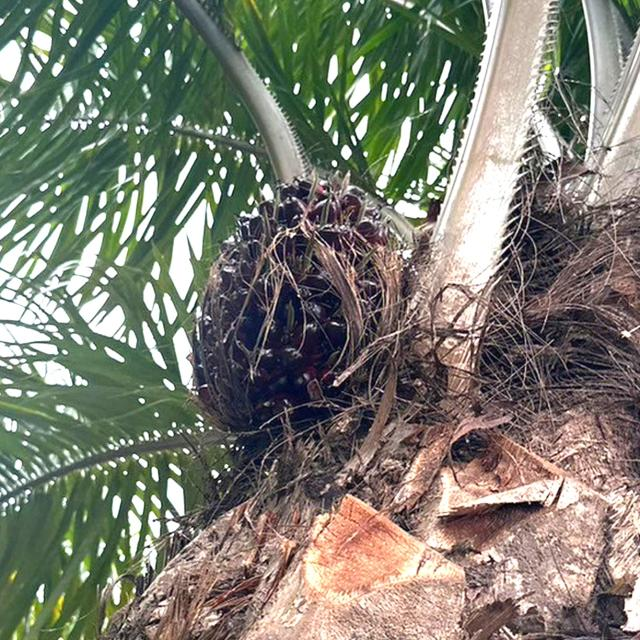ripe: (168, 160, 434, 467)
